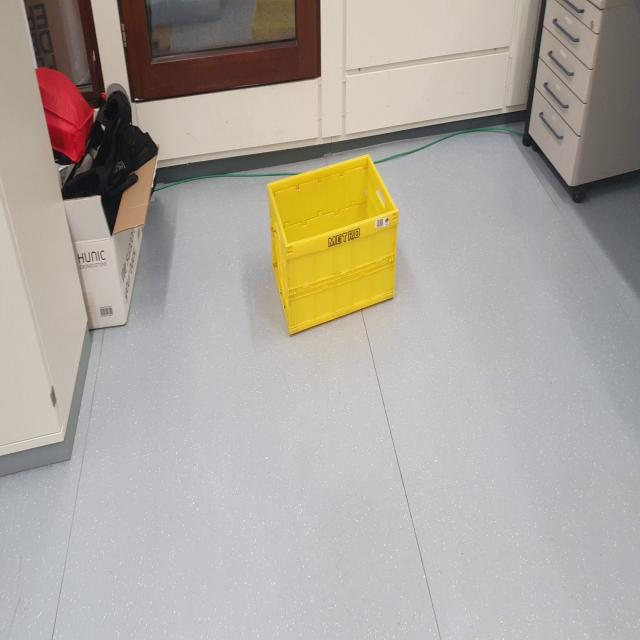box: (263, 148, 404, 343)
